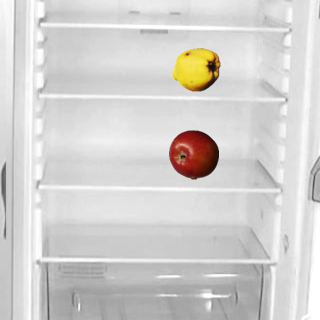Apple Braeburn: (168, 129, 218, 179)
Quince: (170, 44, 220, 94)
